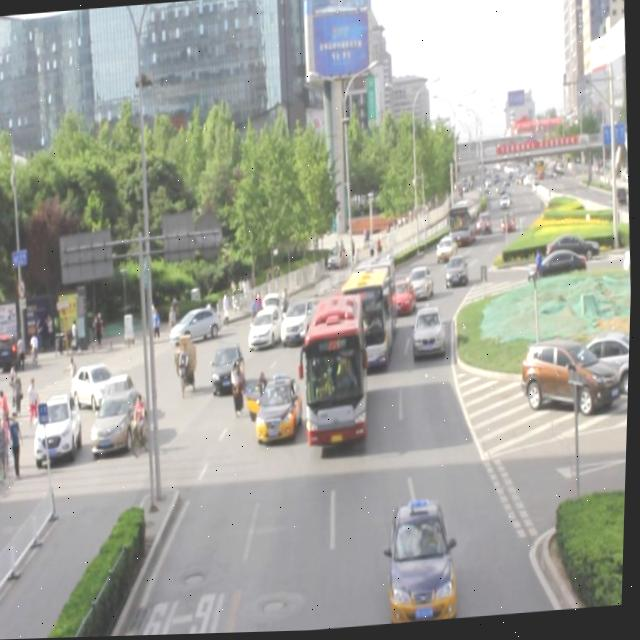car: (388, 499, 462, 626), (255, 375, 306, 444), (412, 304, 449, 360), (331, 287, 377, 331), (281, 297, 320, 347), (212, 341, 247, 395), (249, 305, 287, 353), (389, 277, 418, 319), (405, 267, 434, 302), (444, 255, 471, 292)
van: (302, 295, 372, 446), (342, 259, 399, 368)
